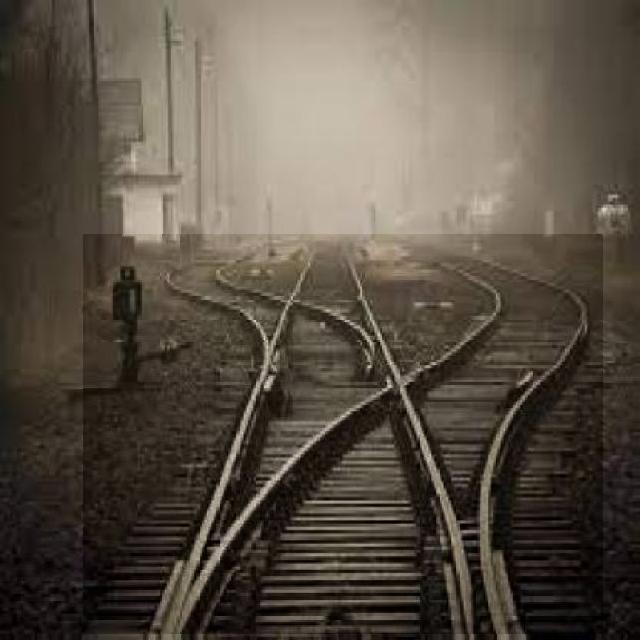rail: (85, 236, 604, 635)
